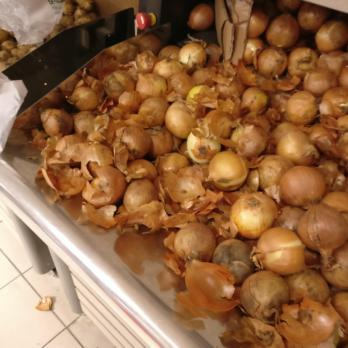Onion: (189, 108, 348, 348), (83, 53, 191, 226), (189, 1, 348, 106), (25, 100, 88, 195)
